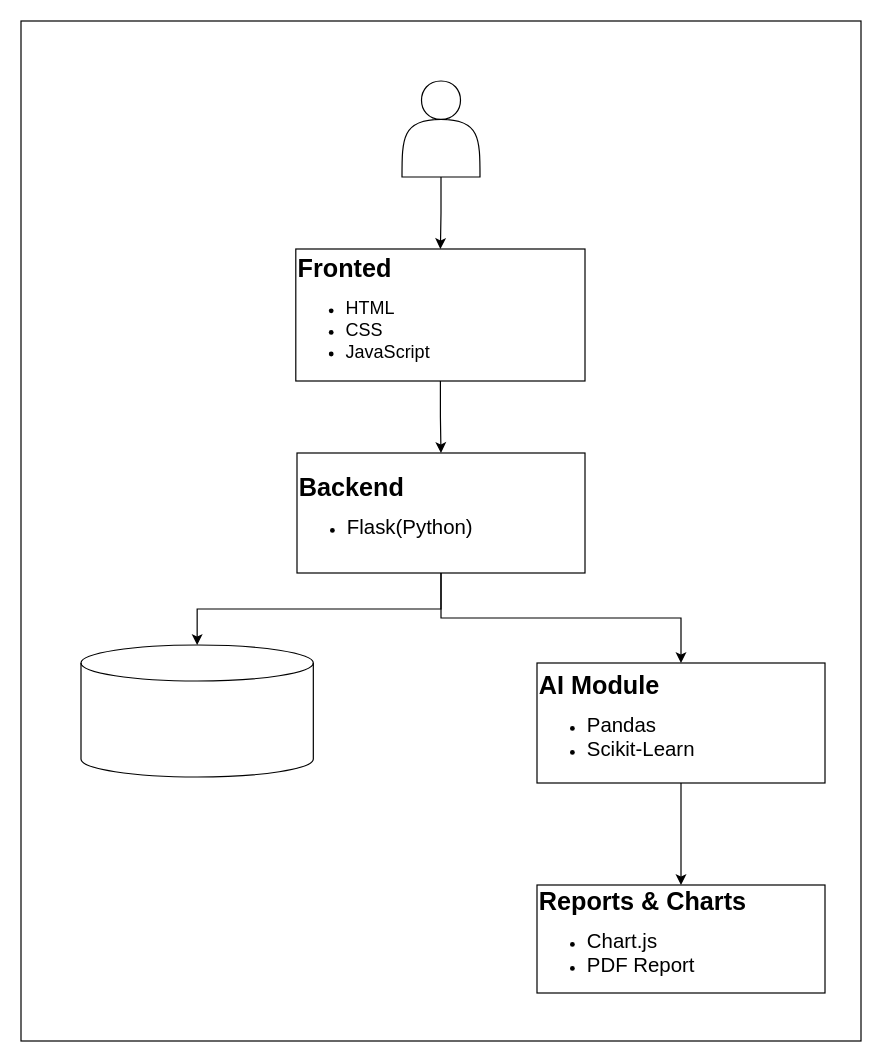
The diagram is 882 pixels wide and 1062 high, and some of its shapes have lost their labels. Each missing label, with the box of its shape:
Cafe Owner: (401, 80, 480, 177)
Dtabase SQLite Database: (80, 644, 313, 777)
